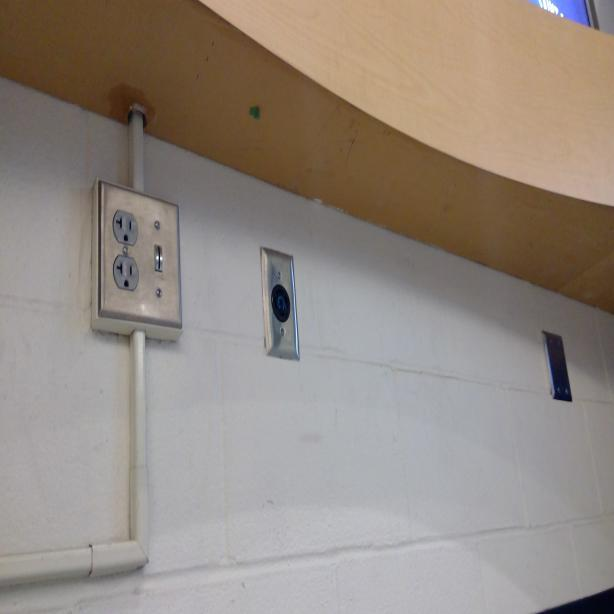typeb: (112, 207, 139, 248), (113, 255, 140, 293)
